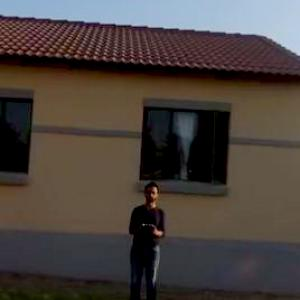follow: (119, 178, 168, 299)
